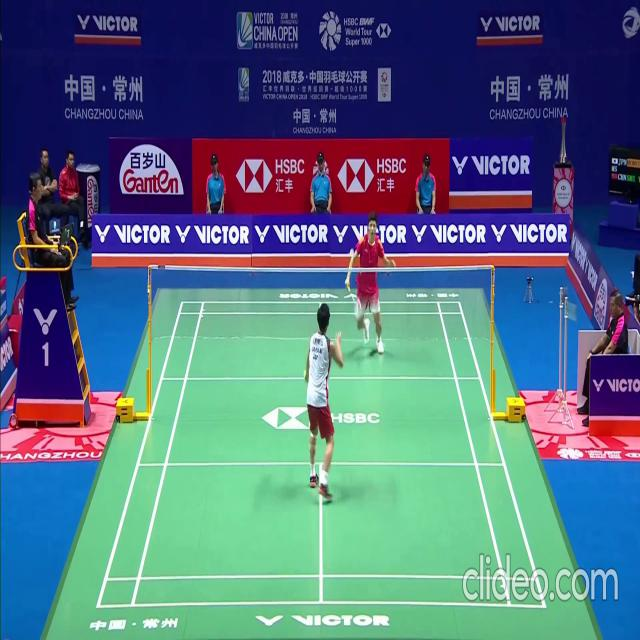Shuttlecock: (349, 248, 354, 256)
